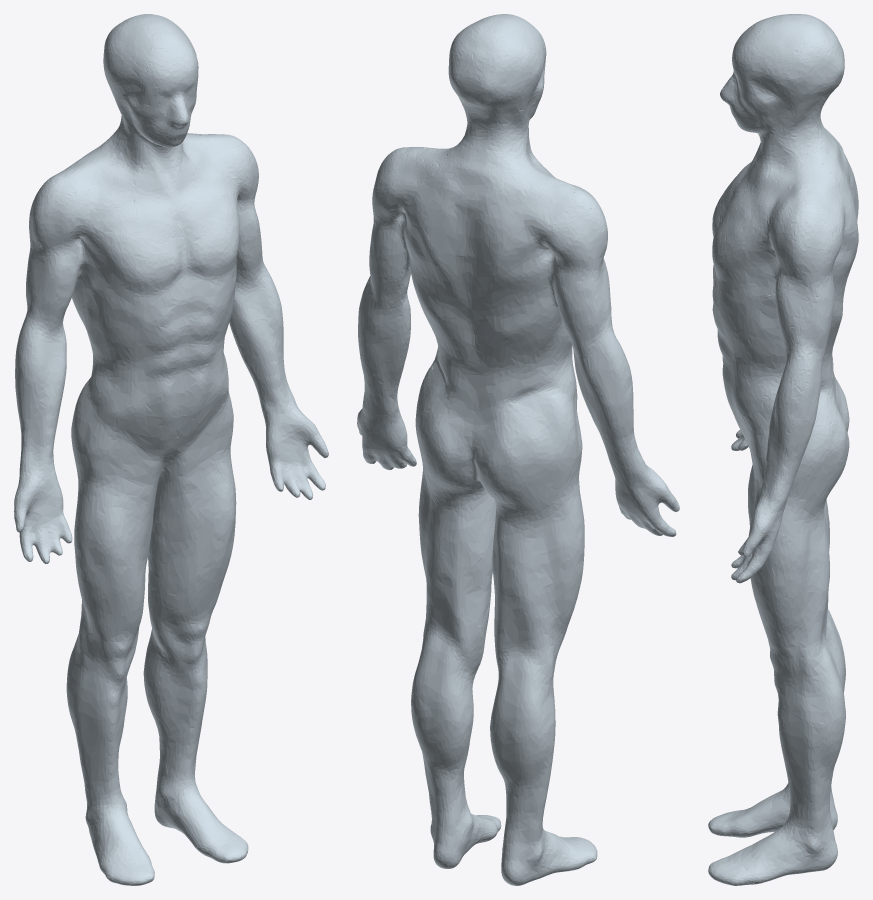
The model's file is avatar.glb.
3 renders of one model, left to right at view 1: azimuth 30°, elevation 25°; view 2: azimuth 150°, elevation 25°; view 3: azimuth 270°, elevation 25°, orthographic. The views are drawn at different scales.
Visible parts, largest first — view 1: avatar; view 2: avatar; view 3: avatar.
Boxes of the visible parts, bbox=[...] form: avatar: bbox=[14, 14, 328, 885]; avatar: bbox=[357, 14, 679, 885]; avatar: bbox=[708, 14, 858, 885].
Bounding box in the file's own units: 0.6773 × 1.72 × 0.2794.
